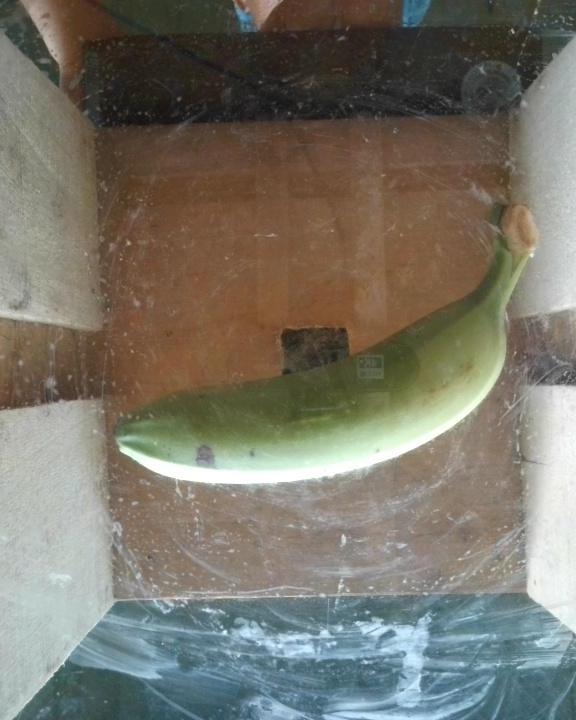CLASS B: (105, 196, 544, 499)
Class A: (187, 438, 238, 482)
